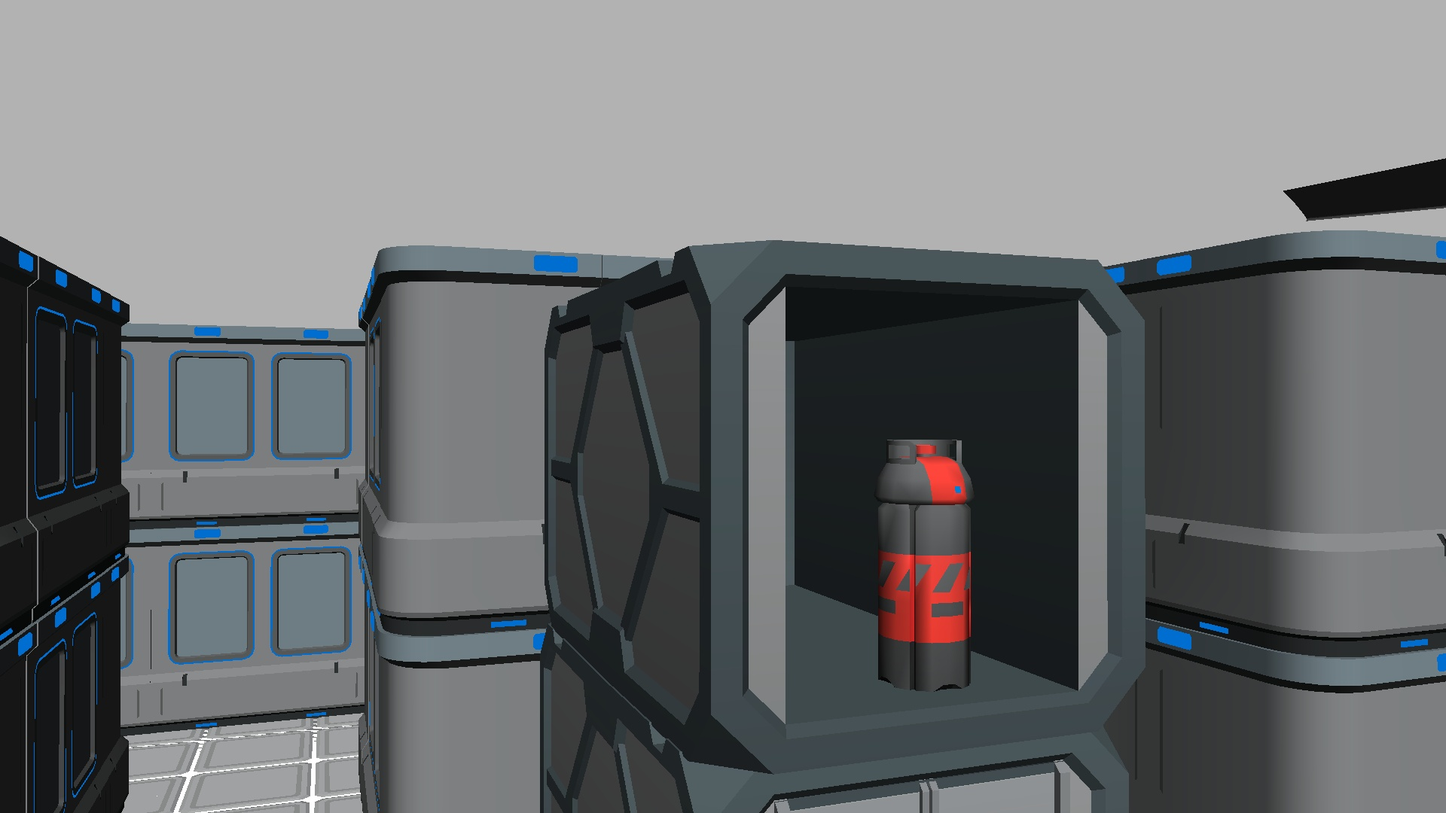red barrel: (877, 438, 971, 692)
